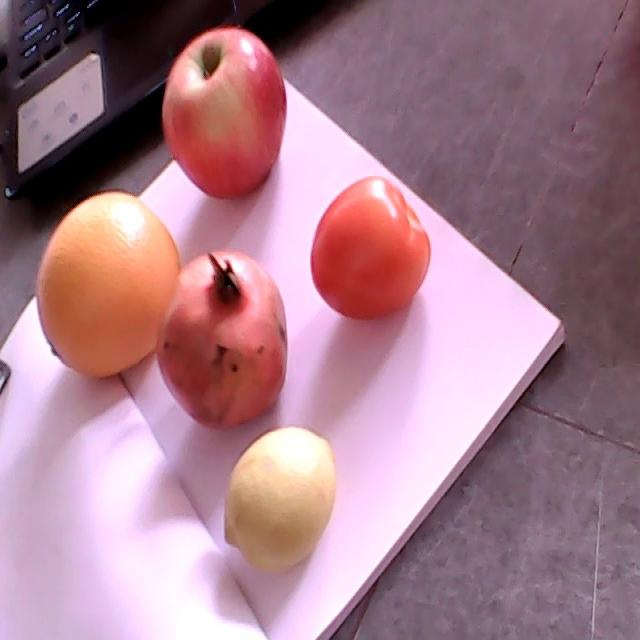apple: (162, 28, 287, 200)
lemon: (225, 426, 336, 573)
orange: (36, 191, 182, 378)
pomegranate: (158, 251, 288, 431)
tomato: (310, 175, 431, 321)
